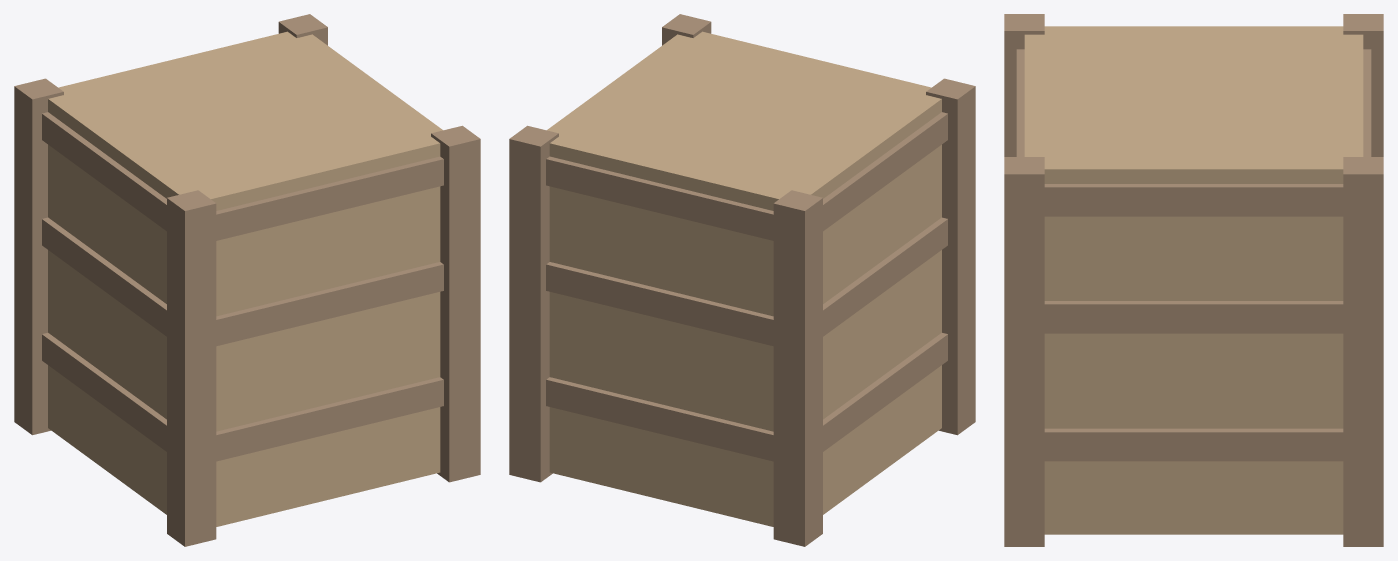
The model's file is crate_B.glb.
3 renders of one model, left to right at view 1: azimuth 30°, elevation 25°; view 2: azimuth 150°, elevation 25°; view 3: azimuth 270°, elevation 25°, orthographic. The views are drawn at different scales.
Visible parts, largest first — view 1: crate_B; view 2: crate_B; view 3: crate_B.
Boxes of the visible parts, left/top/right/bottom form: crate_B: left=14, top=14, right=480, bottom=546; crate_B: left=509, top=14, right=975, bottom=546; crate_B: left=1004, top=14, right=1383, bottom=546.
Bounding box in the file's own units: 0.47 × 0.51 × 0.47.
